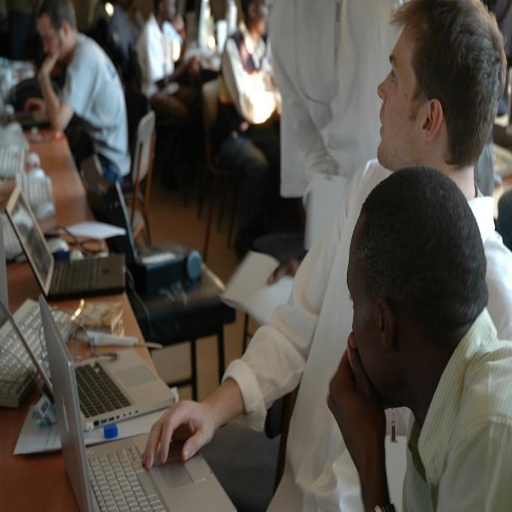hand: (325, 330, 387, 467), (141, 398, 217, 470), (266, 247, 308, 279), (38, 46, 59, 78), (24, 94, 45, 116), (182, 51, 199, 75), (272, 90, 280, 115)
